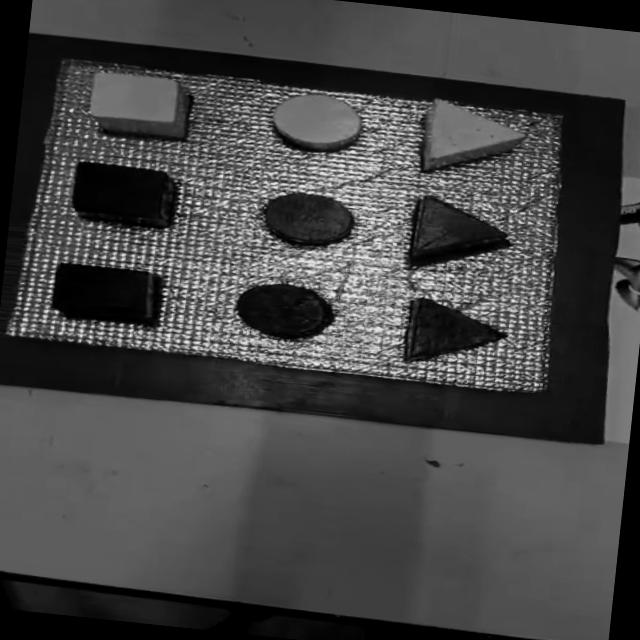bcircle: (232, 279, 333, 342)
bcube: (46, 261, 162, 326)
btriangle: (402, 296, 508, 371)
rcircle: (262, 188, 354, 248)
rcube: (68, 160, 178, 228)
rtriangle: (409, 196, 514, 272)
wb: (0, 48, 591, 401)
ycircle: (266, 89, 364, 155)
ycube: (84, 68, 187, 130)
ytriangle: (416, 96, 526, 177)
